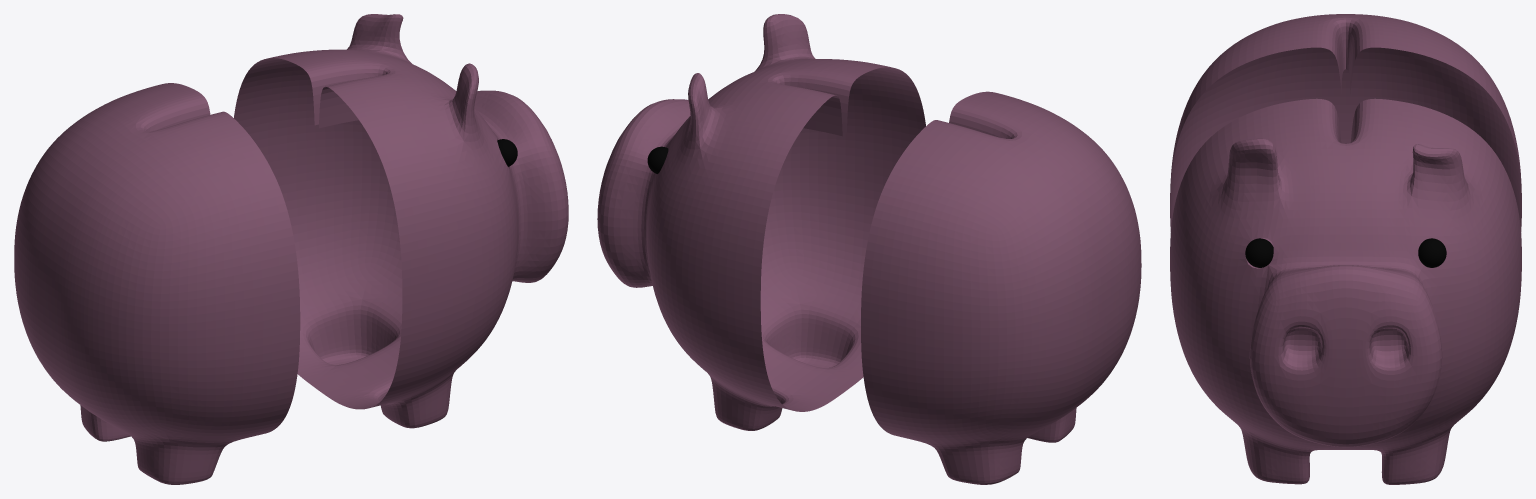
File: pig_front.fbx
The picture shows the model from 3 angles, left to right: view 1: azimuth 30°, elevation 25°; view 2: azimuth 150°, elevation 25°; view 3: azimuth 270°, elevation 25°; orthographic projection. The views are drawn at different scales.
Parts seen in each view (by area): view 1: pig, pig2; view 2: pig2, pig; view 3: pig2, pig.
Part boxes in pixels (x1,y1,x2,y2): pig: (14, 83, 300, 484); pig2: (234, 14, 568, 428); pig2: (597, 14, 925, 430); pig: (861, 91, 1141, 484); pig2: (1170, 98, 1521, 484); pig: (1170, 14, 1521, 268).
Size of the model in its own units: 635 by 429 by 383.
